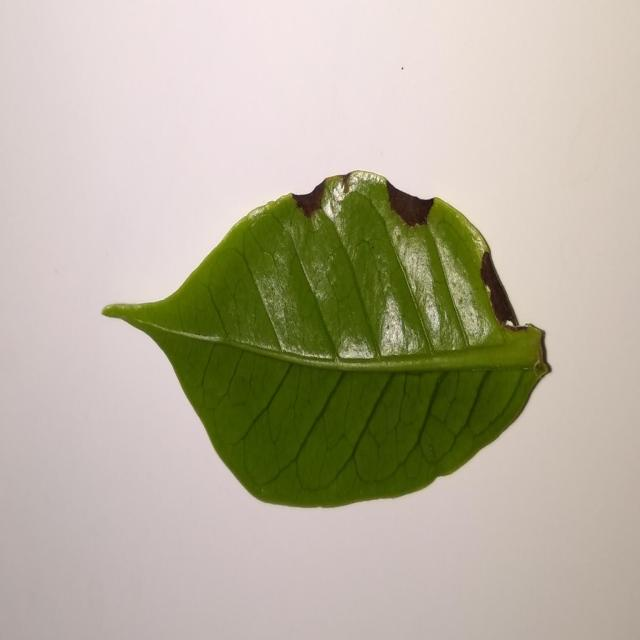Enfermedad-Antracnosis: (100, 171, 553, 511)
